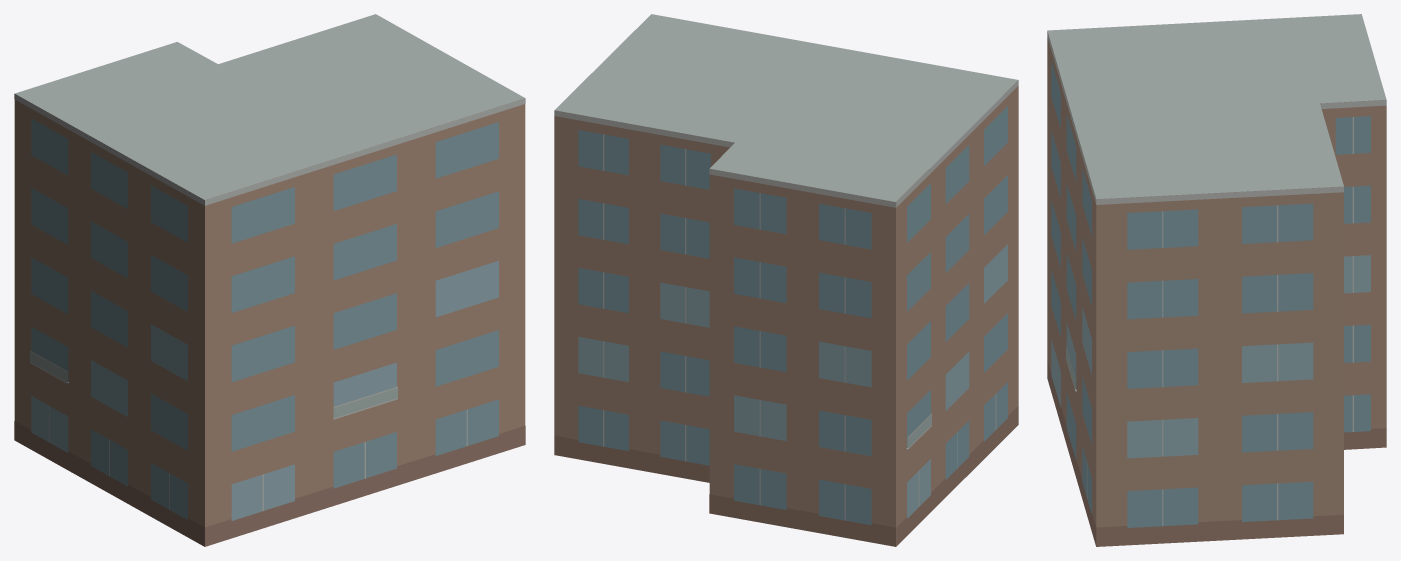
File: survey-upis-32715438.glb
The picture shows the model from 3 angles, left to right: view 1: azimuth 30°, elevation 25°; view 2: azimuth 150°, elevation 25°; view 3: azimuth 270°, elevation 25°; orthographic projection.
Parts seen in each view (by area): view 1: survey-upis-32715438.tmp; view 2: survey-upis-32715438.tmp; view 3: survey-upis-32715438.tmp.
Boxes of the visible parts, x1,y1,x2,y2 form: survey-upis-32715438.tmp: [14, 14, 525, 546]; survey-upis-32715438.tmp: [554, 14, 1018, 546]; survey-upis-32715438.tmp: [1047, 14, 1386, 546].
Size of the model in its own units: 16.8 by 14.7 by 13.01.
